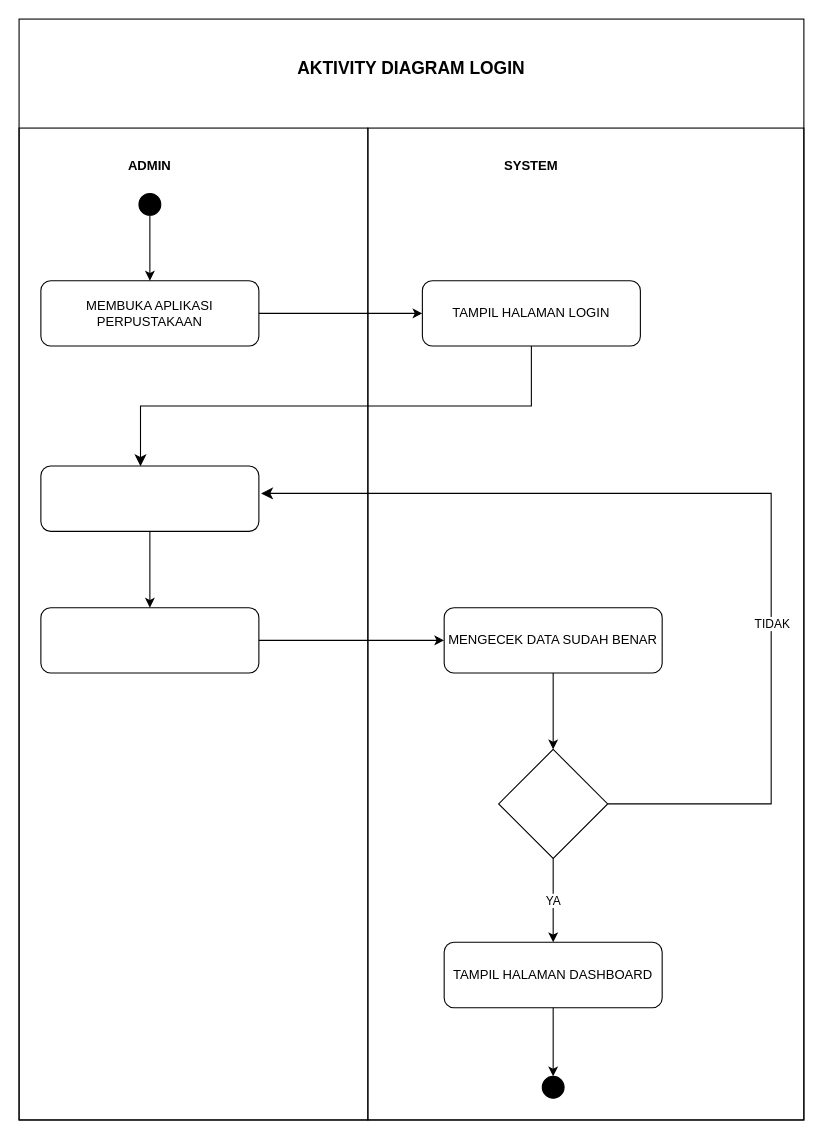
Some shapes in this 823 by 1139 pixel diagram are drawn without their labels. Here are the shapes that lost their labels. From the top down, the centre of each, then its label:
the point at 149,498: MASUKAN USERNAME DAN PASSWORD
the point at 149,640: KLIK MASUK
